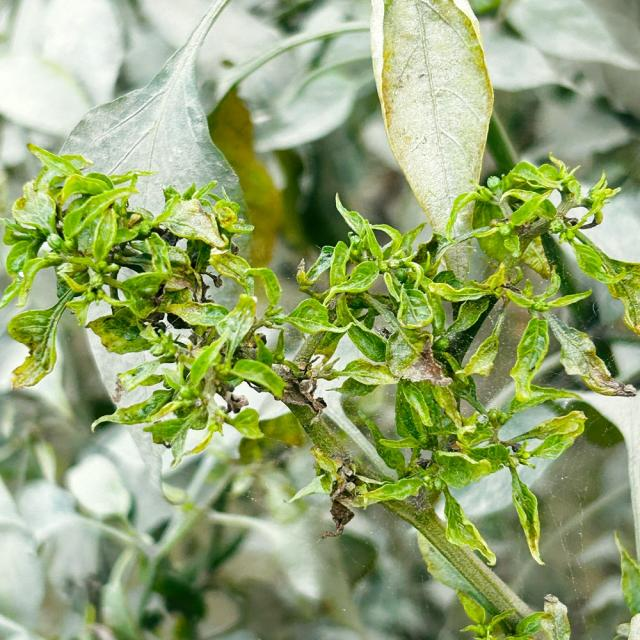Chilli_Leaf_Curl: (1, 1, 638, 636), (281, 154, 636, 569), (1, 141, 286, 470), (54, 0, 255, 257), (368, 0, 495, 280)
